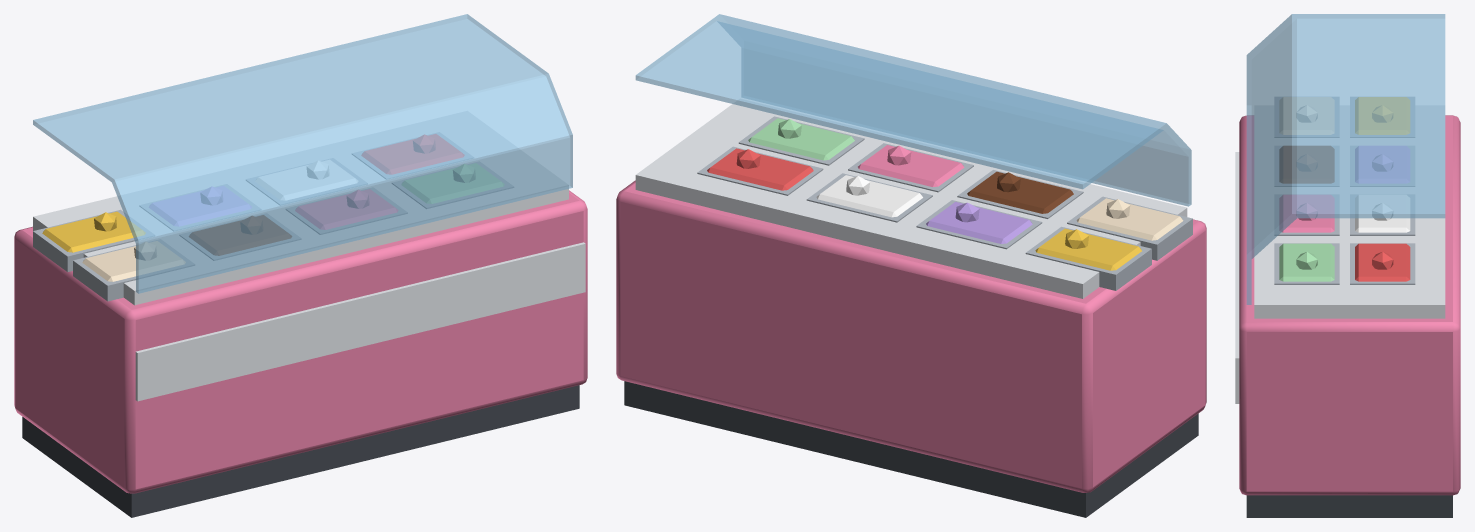
File: ice_cream_freezer.glb
3 views of the same model, side by side, from view 1: azimuth 30°, elevation 25°; view 2: azimuth 150°, elevation 25°; view 3: azimuth 270°, elevation 25° (orthographic). The views are drawn at different scales.
Visible parts, largest first — view 1: ice_cream_freezer; view 2: ice_cream_freezer; view 3: ice_cream_freezer.
Part boxes in pixels (x1,y1,x2,y2): ice_cream_freezer: (14, 14, 587, 517); ice_cream_freezer: (616, 14, 1206, 517); ice_cream_freezer: (1235, 14, 1460, 517).
Size of the model in its own units: 2.01 by 1.32 by 0.895.
